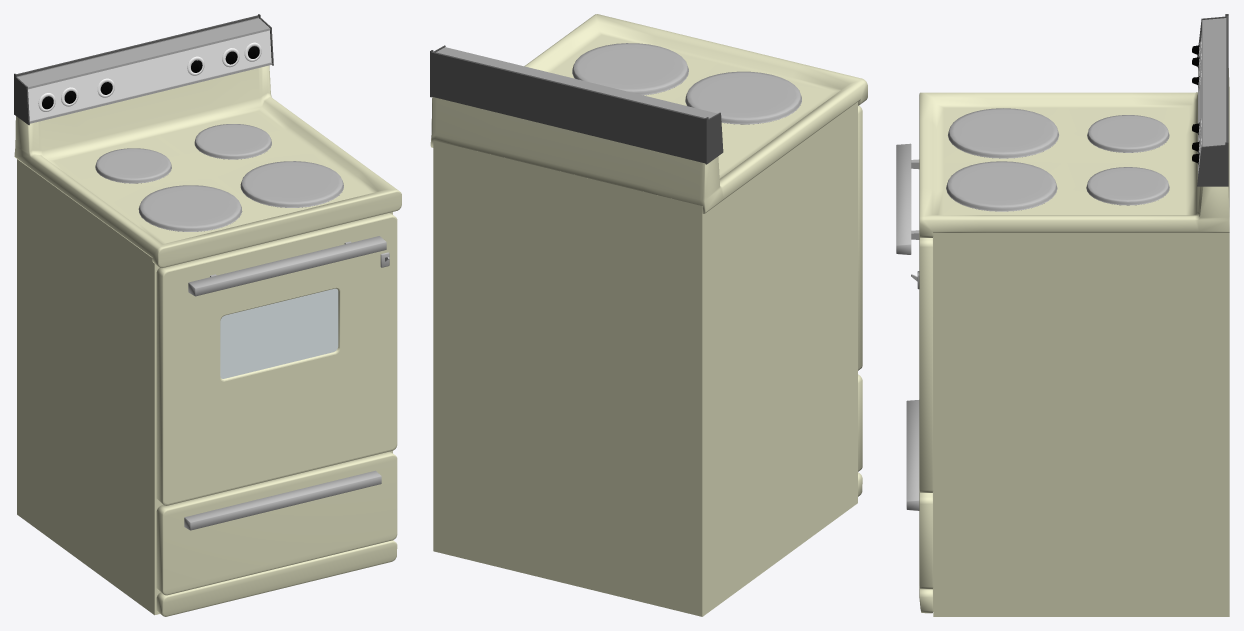
Rendered from oven.glb.
3 views of the same model, side by side, from view 1: azimuth 30°, elevation 25°; view 2: azimuth 150°, elevation 25°; view 3: azimuth 270°, elevation 25° (orthographic). The views are drawn at different scales.
Visible parts, largest first — view 1: 0005; view 2: 0005; view 3: 0005.
Boxes of the visible parts, box(x1,y1,x2,y2) form: 0005: box(14, 14, 401, 616); 0005: box(430, 14, 867, 616); 0005: box(896, 14, 1229, 616).
Size of the model in its own units: 2.06 by 3.54 by 2.25.
